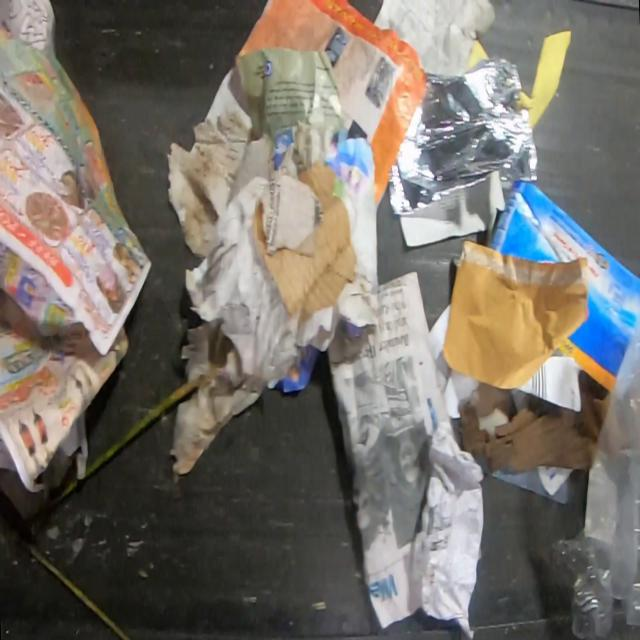cardboard: (251, 164, 357, 320)
soft_plastic: (549, 314, 640, 638), (386, 54, 538, 220)
